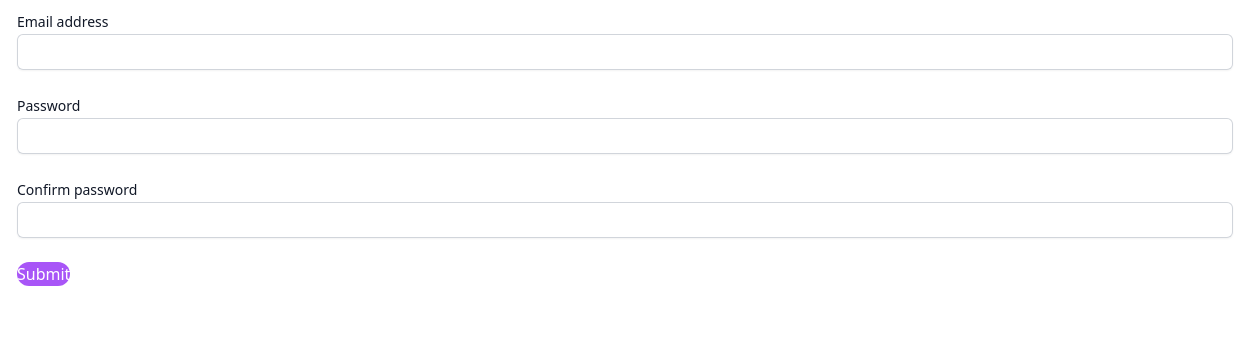
Test: App › Error Handling › should show error message if confirm passwrd input is empty
Step 1. Type "hanie@gmail.com" into the field → (625, 52), box [17, 34, 1233, 70]
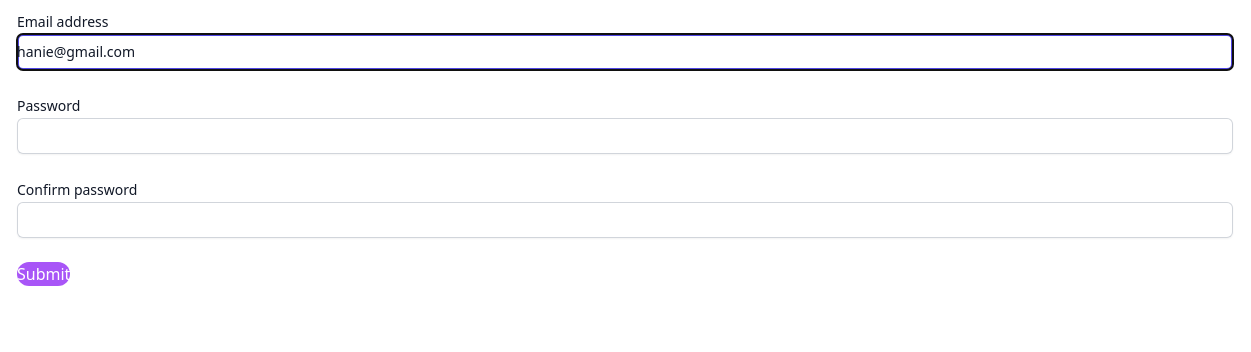
Step 2. Type "1234567" into the password field named "confirm password" → (625, 136), box [17, 118, 1233, 154]
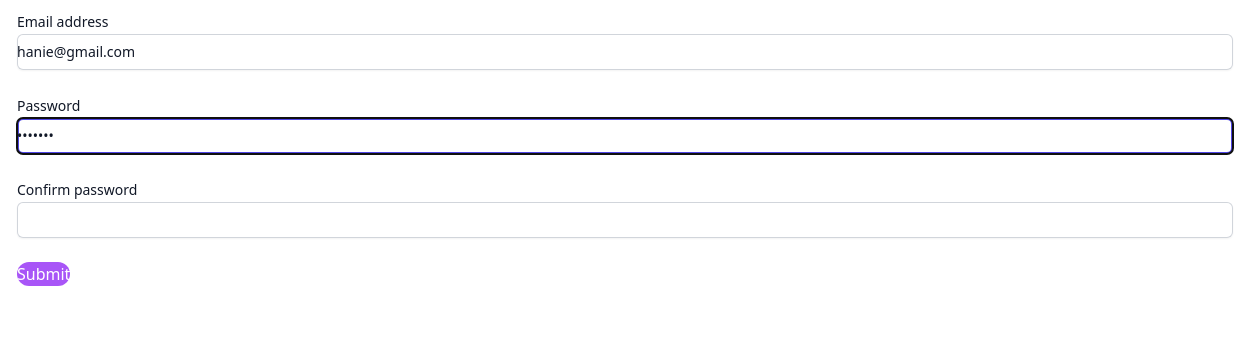
Step 3. Click the button "Submit" → (44, 274), box [17, 262, 70, 286]
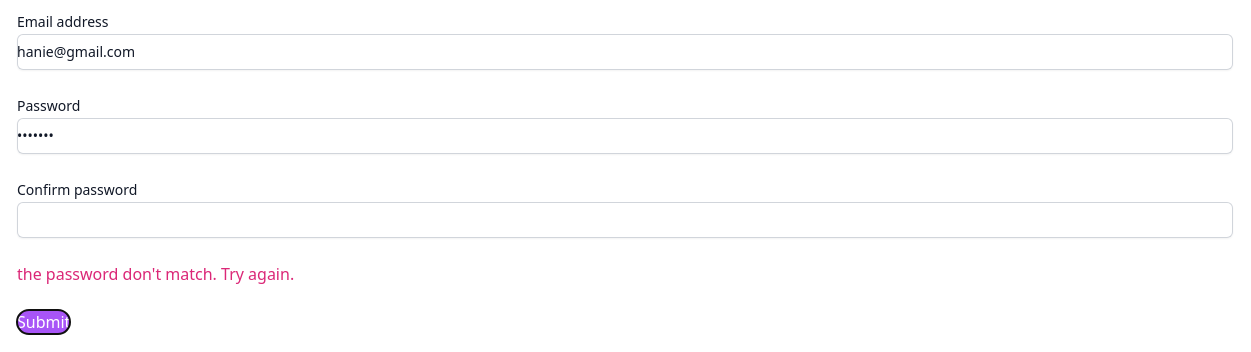
Expected: the text "the password don't match. Try again." is shown, [17, 263, 294, 285]
